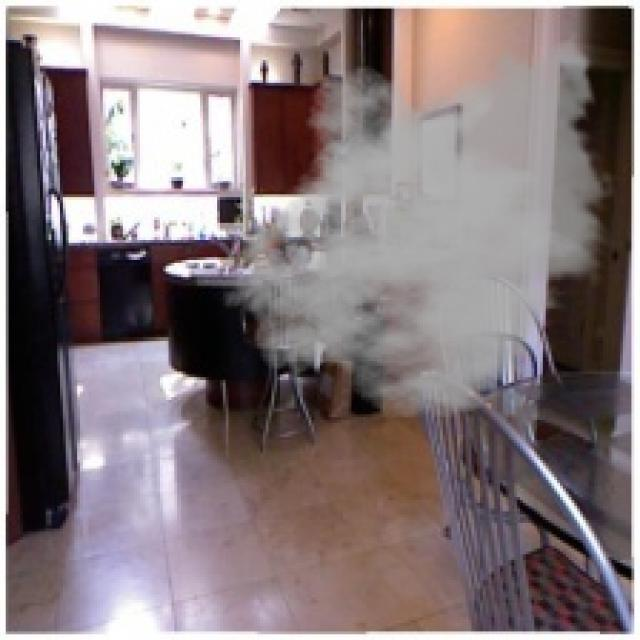Smoke: (220, 26, 617, 420)
